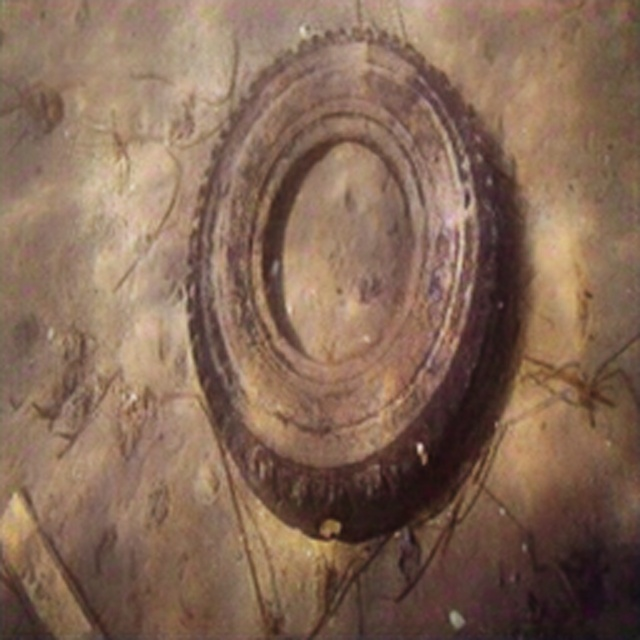mine: (185, 23, 499, 540)
